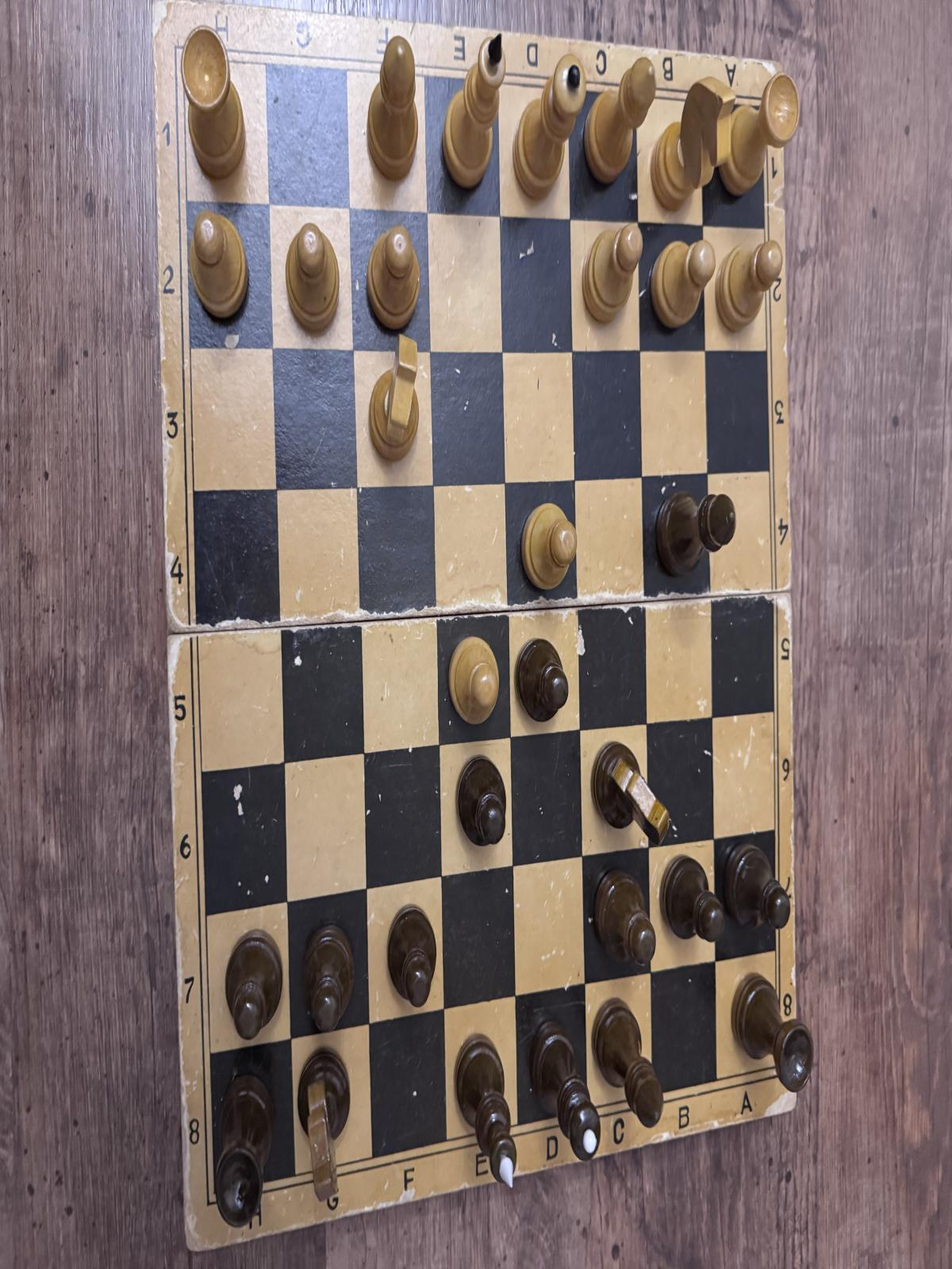Chess-Board: (183, 58, 777, 1193)
